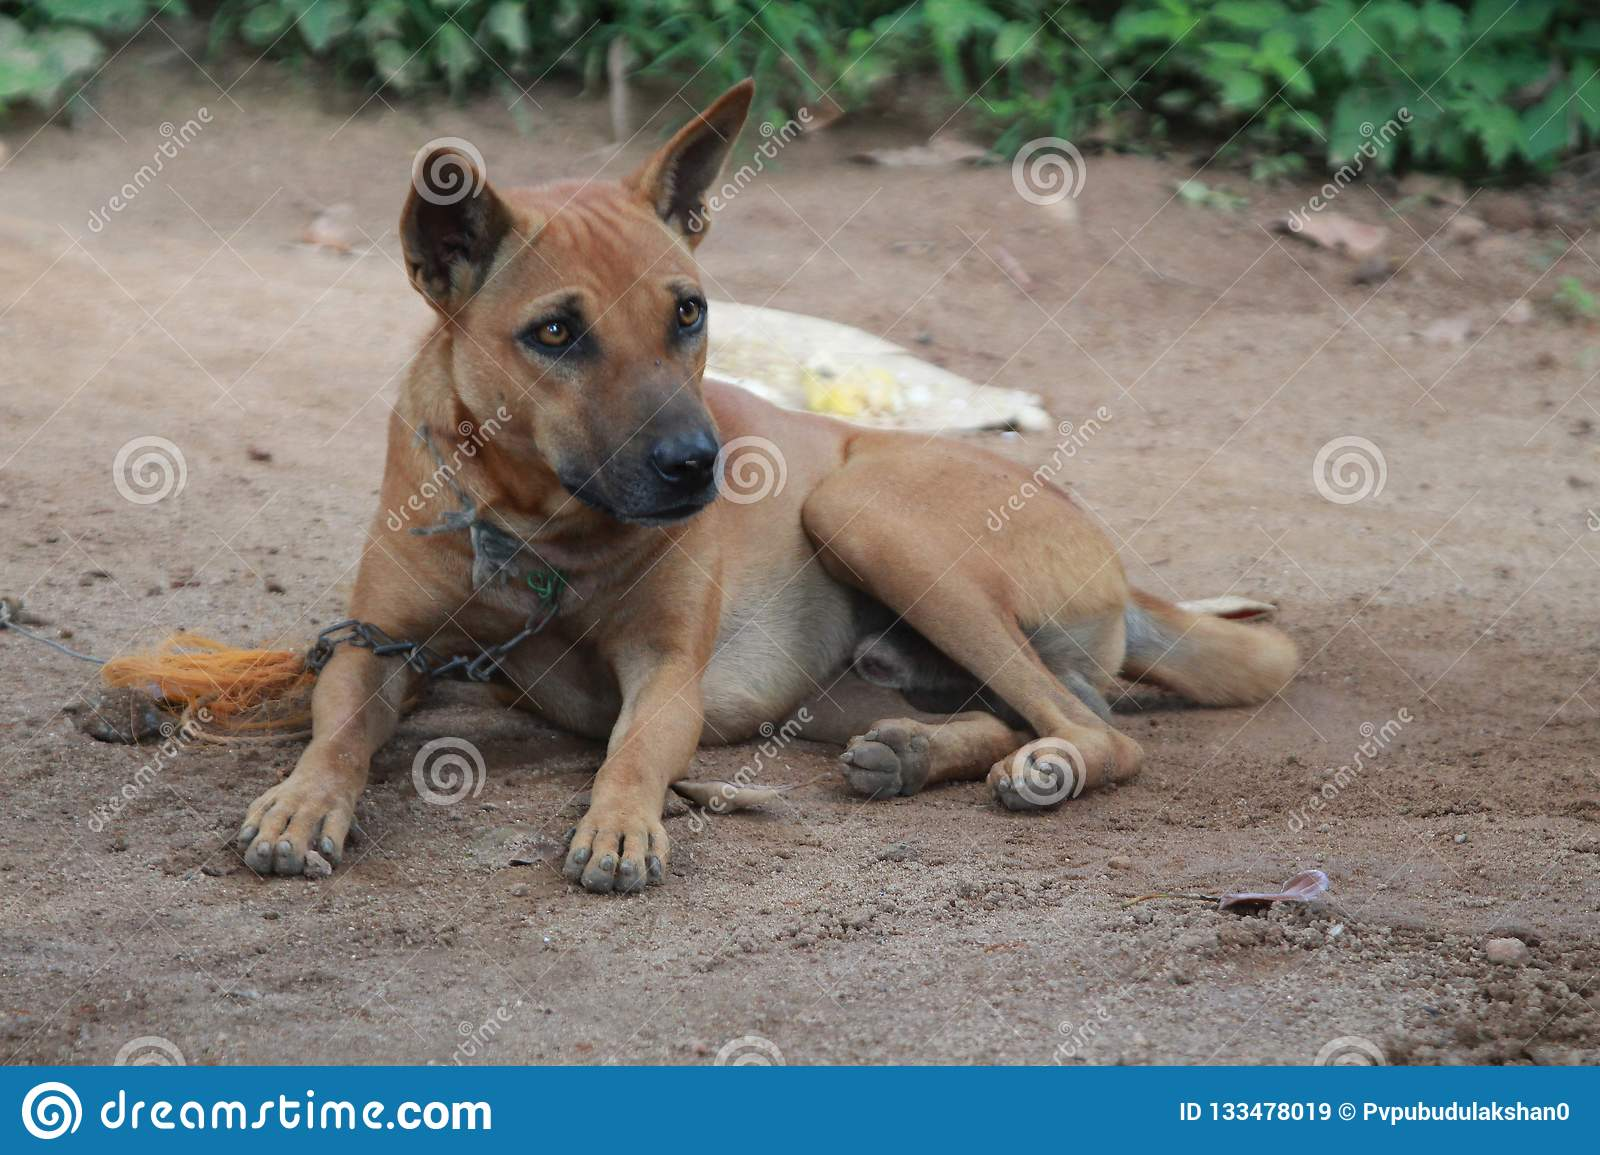Dog: (234, 79, 1361, 940)
